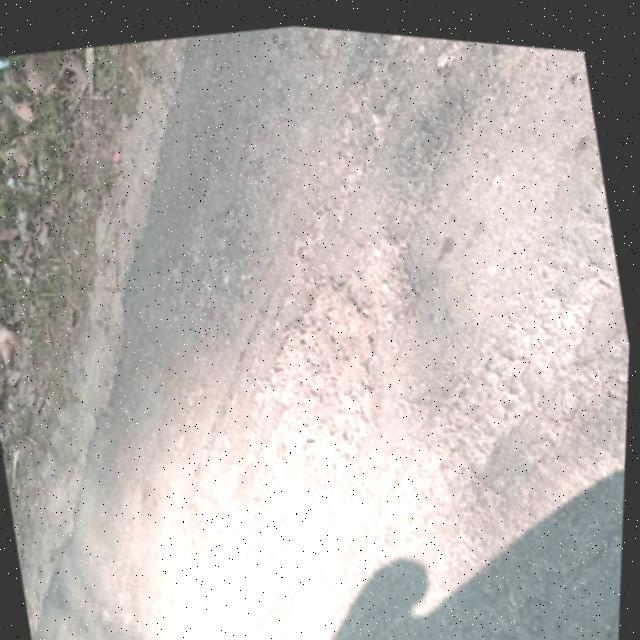pothole: (232, 251, 410, 493)
